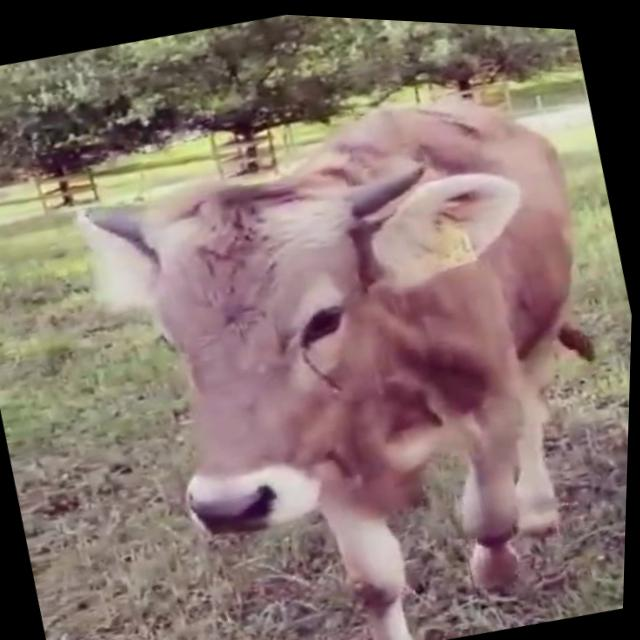cowFace: (39, 104, 599, 585)
